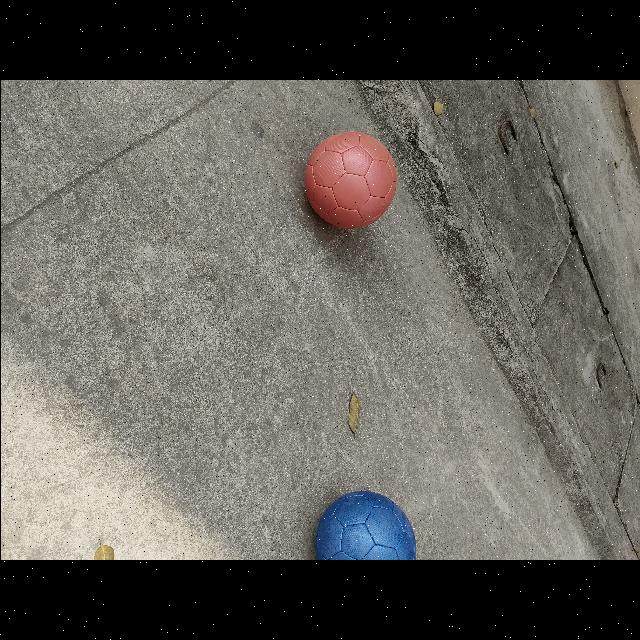B: (309, 490, 415, 560)
R: (300, 130, 395, 230)
